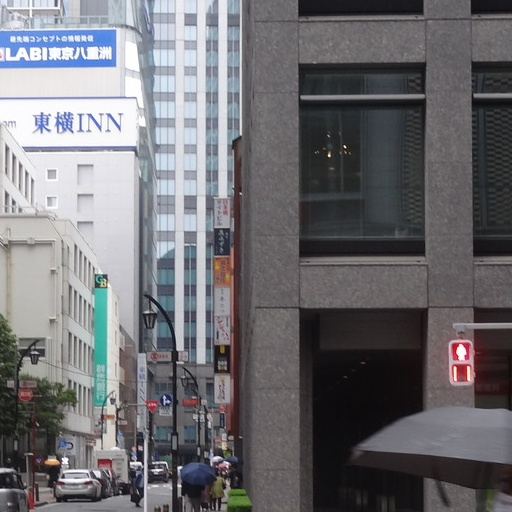Pedestrian_Signal_Red: (443, 330, 480, 390)
